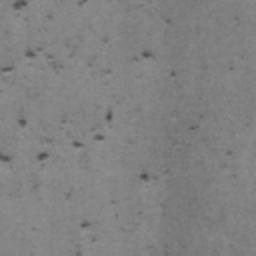Oxide scale of temperature system: (0, 111, 114, 164), (100, 35, 177, 78), (1, 45, 60, 74), (12, 0, 28, 10), (186, 123, 200, 133), (224, 148, 234, 156), (140, 170, 148, 180), (76, 0, 88, 6), (82, 220, 90, 228), (164, 17, 173, 24), (77, 248, 84, 256)
